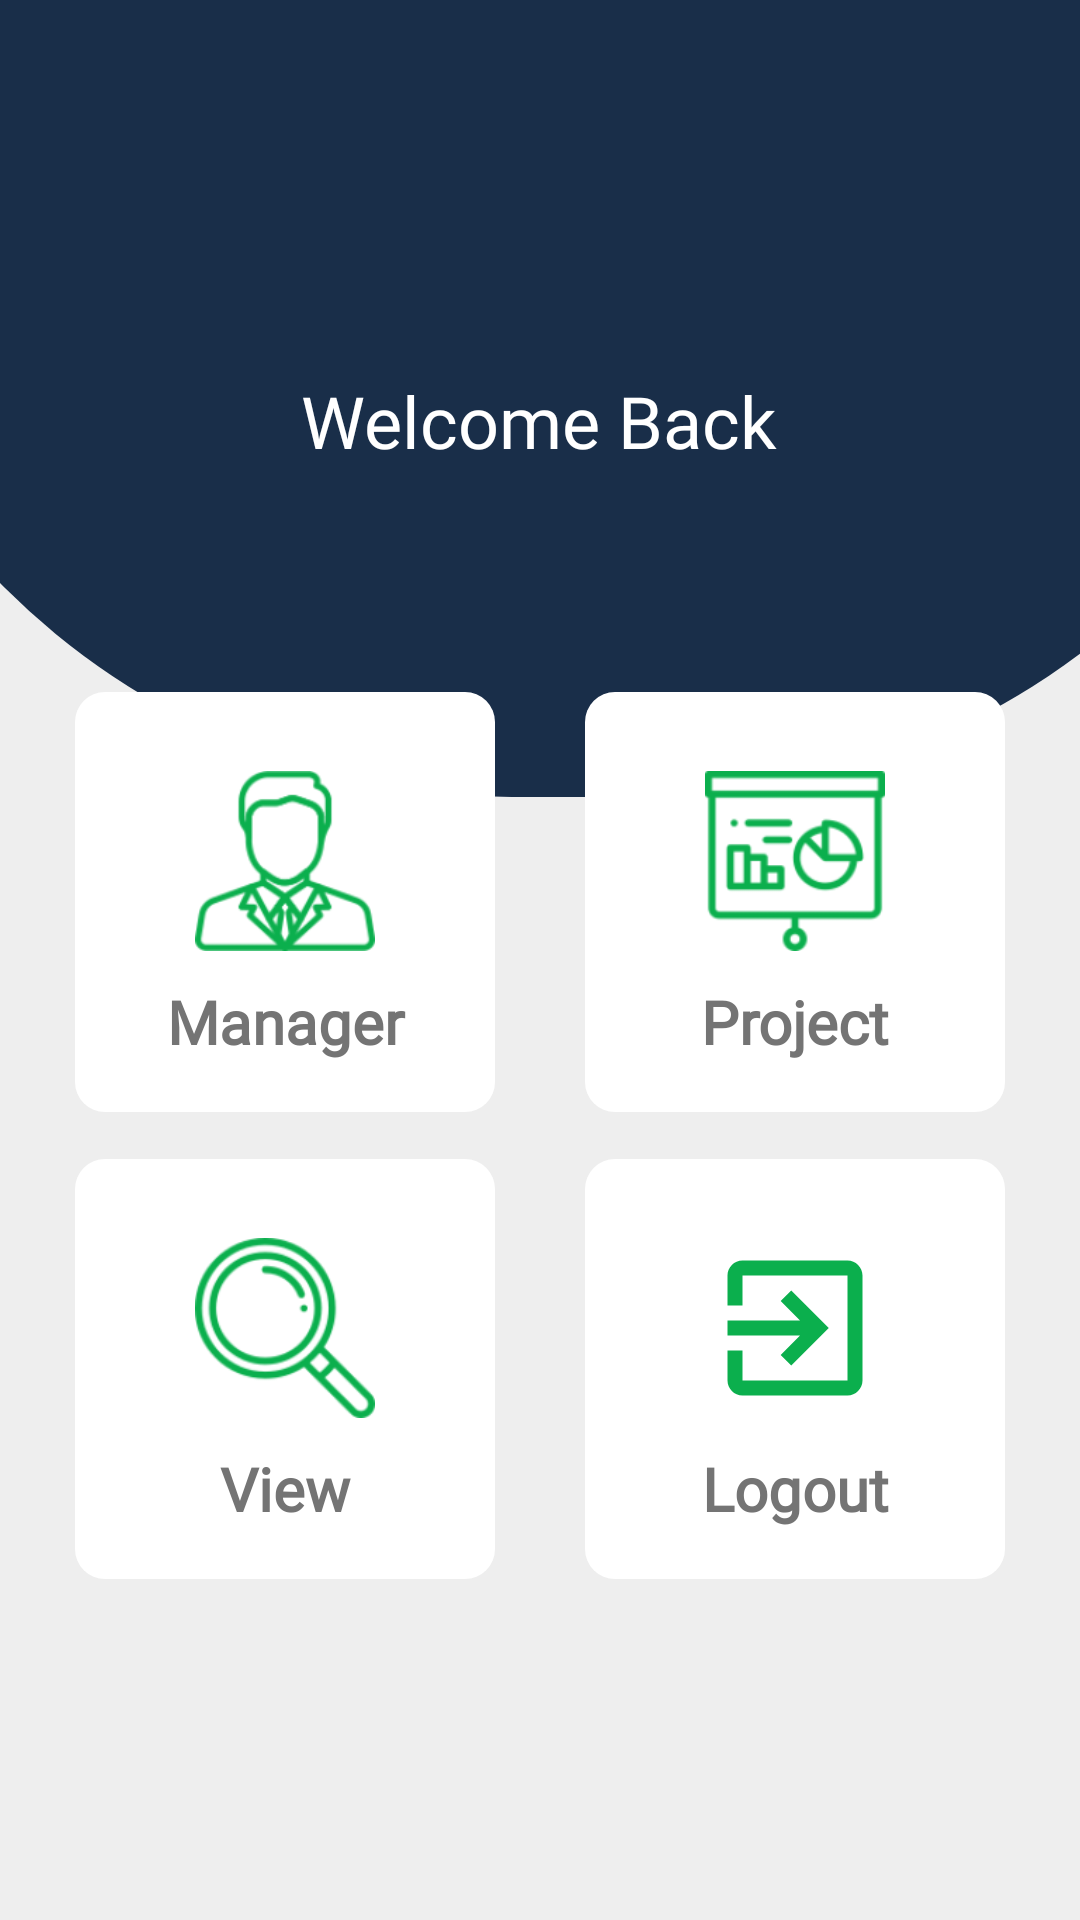

Icons on this 1080px x 1920px Android screen, each with the point to tap as point (x, y):
search: point (285, 1328)
